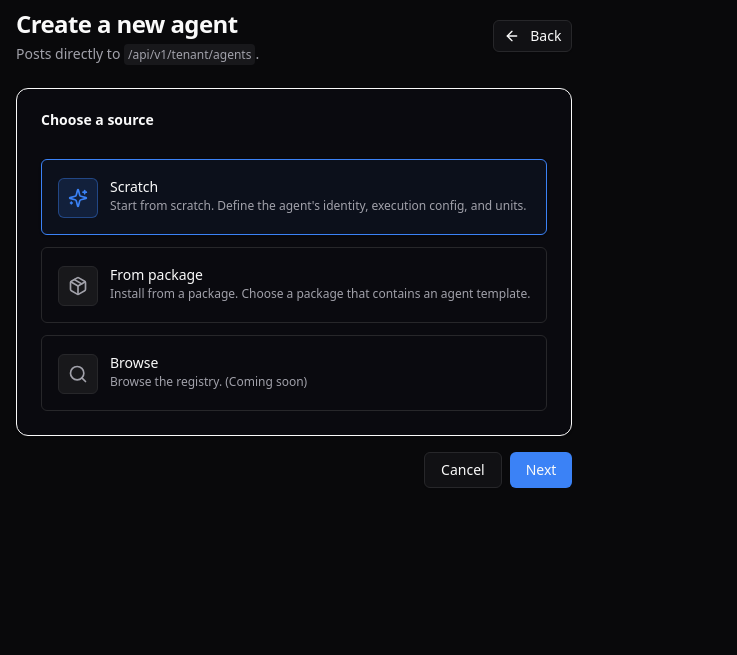
Test: CreateAgentPage — runtime-aware provider banner + picker › names the missing fixed provider on Claude Code when no providers are installed
The image size is (737, 655).
Click the button "Next" at (541, 470), box [510,452,572,488]
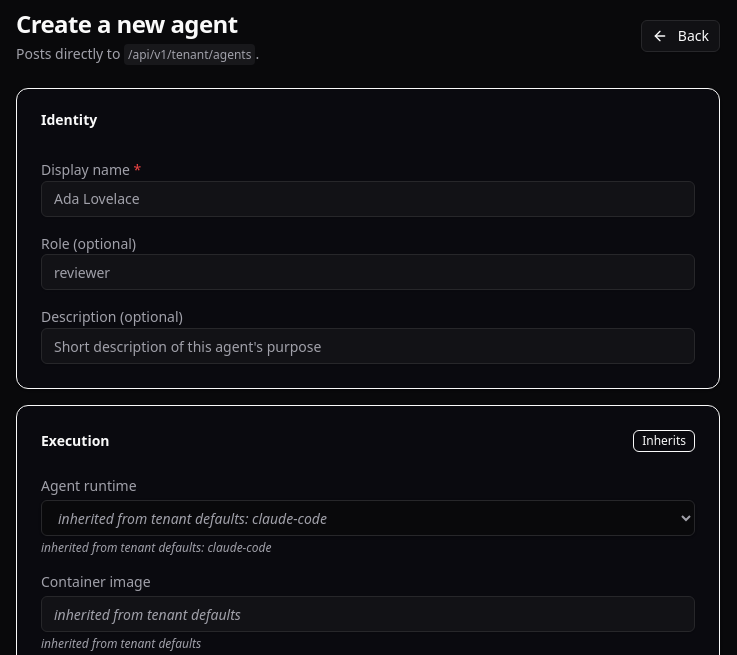
Result: the dropdown named "agent runtime" is shown
Select "Claude Code" in the dropdown named "agent runtime" at (368, 518), box [41,500,695,536]
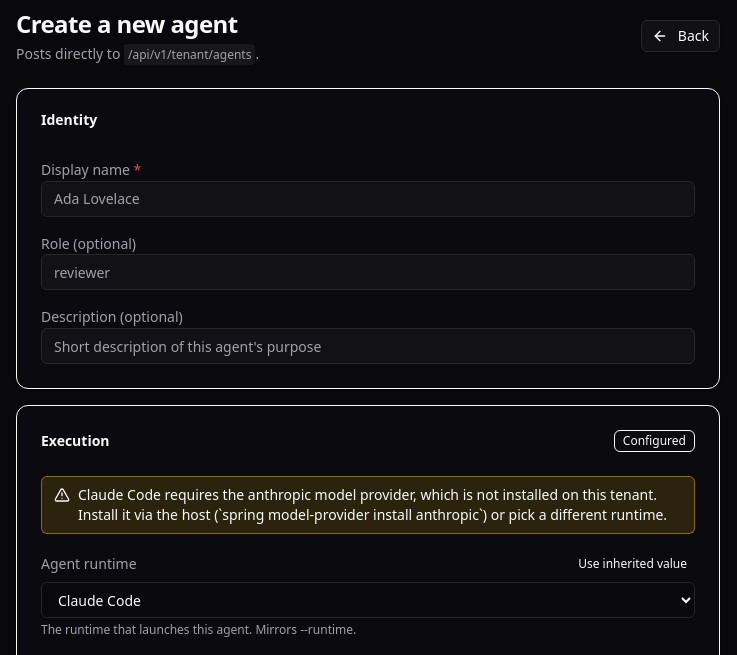
Result: the message with test id "model-provider-catalog-issue" shows "Claude Code requires the anthropic model provider" at [78,485,667,524]
